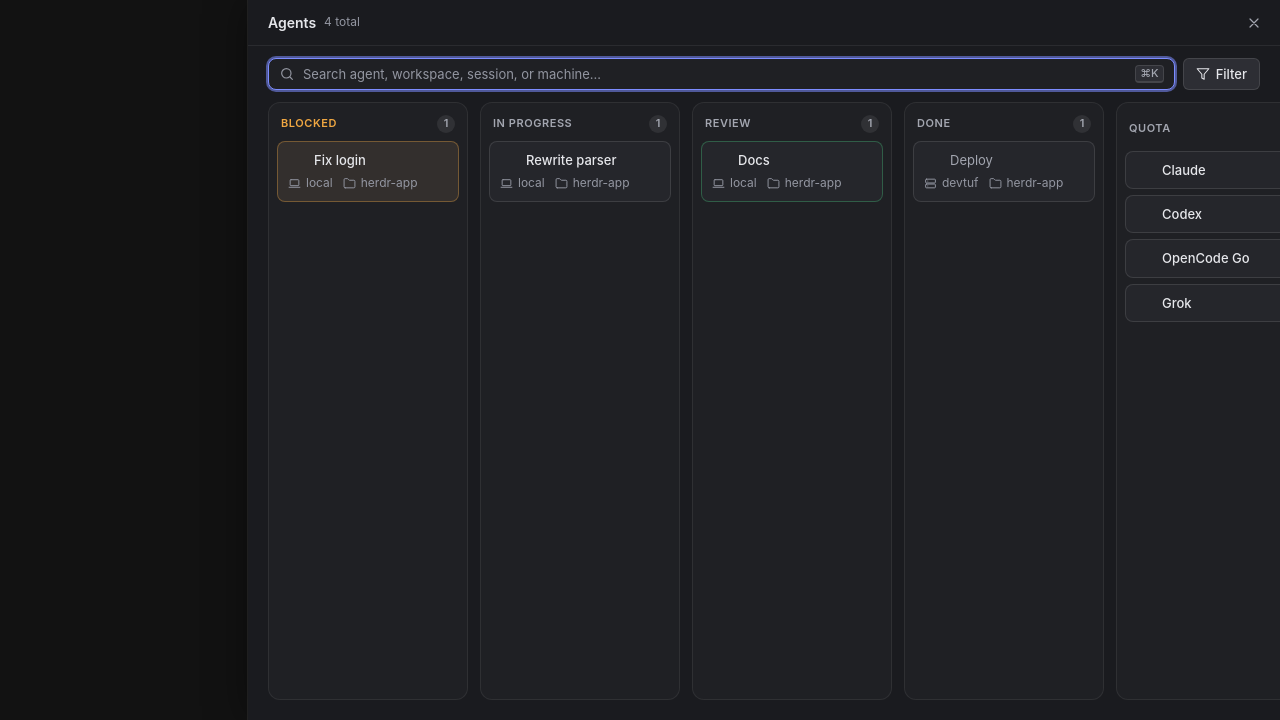
Test case: AgentDashboard › keeps the Quota column when filters hide every agent
Click the button "Filter": (1221, 74) [1183,58,1260,90]
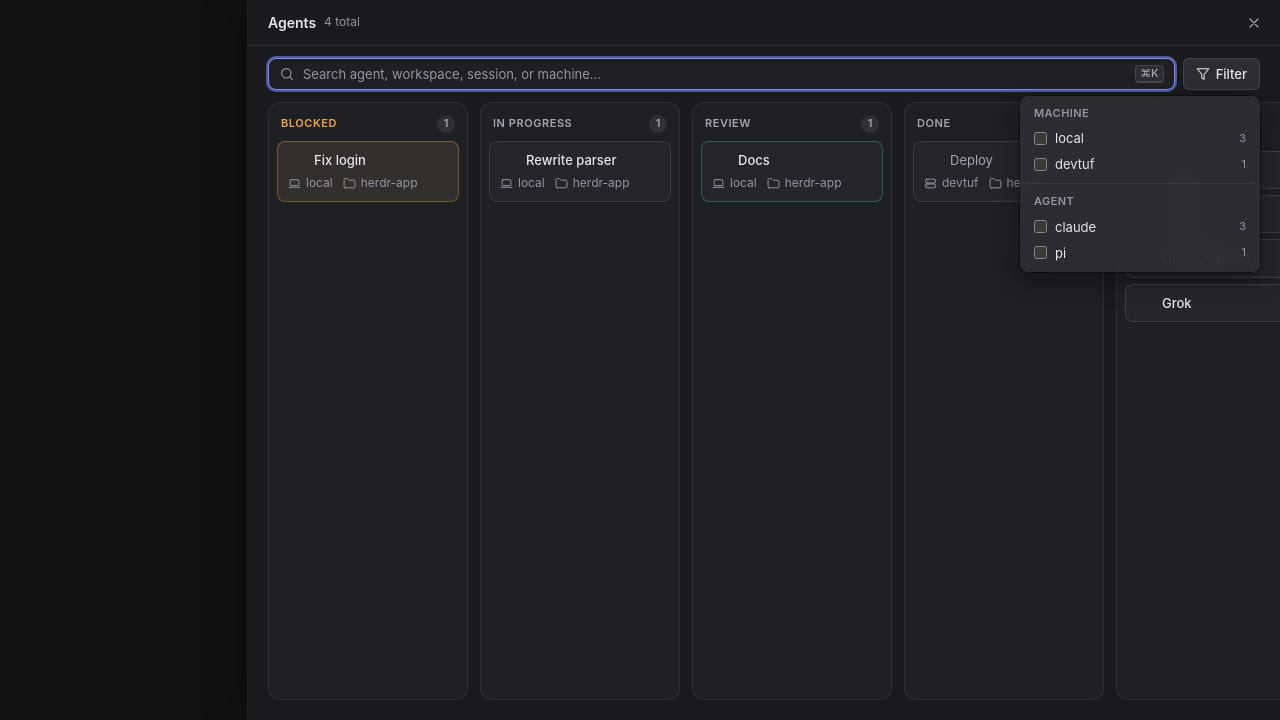
// Only devtuf machines AND only pi agents: pi runs on local only, so nothing matches.
Click the checkbox labelled "devtuf 1": (1040, 164) [1034,158,1047,171]
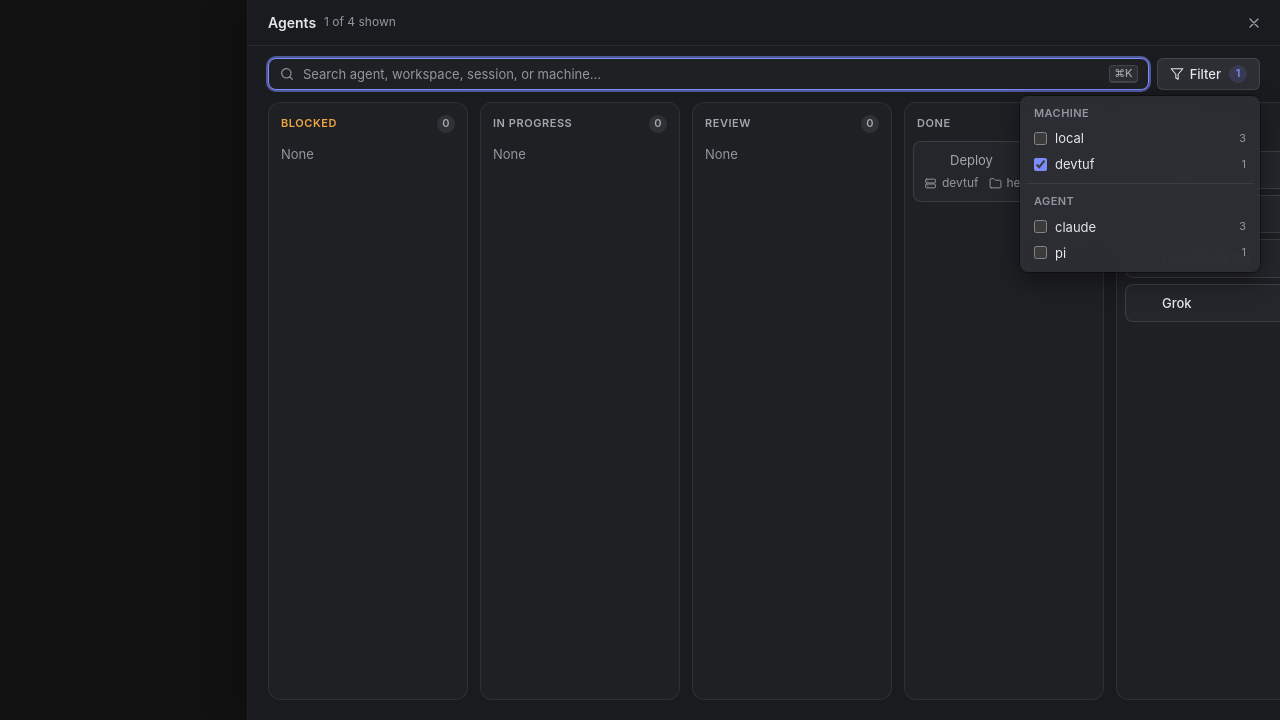
Click the checkbox labelled "pi 1": (1040, 253) [1034,246,1047,259]
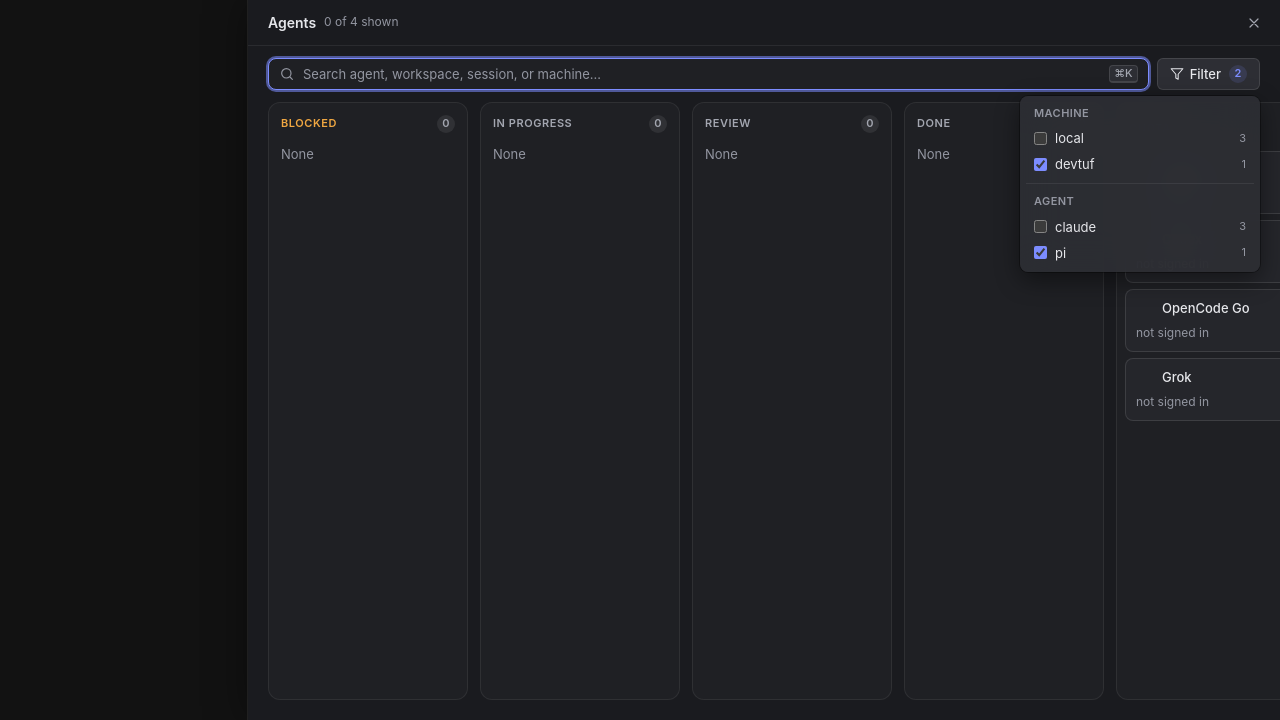
Expected: the element "Quota" is shown, [1116,102,1279,700]
Result: the text "None" is shown at [281,146,314,162]
Result: the text "0 of 4 shown" is shown at [324,14,398,31]
